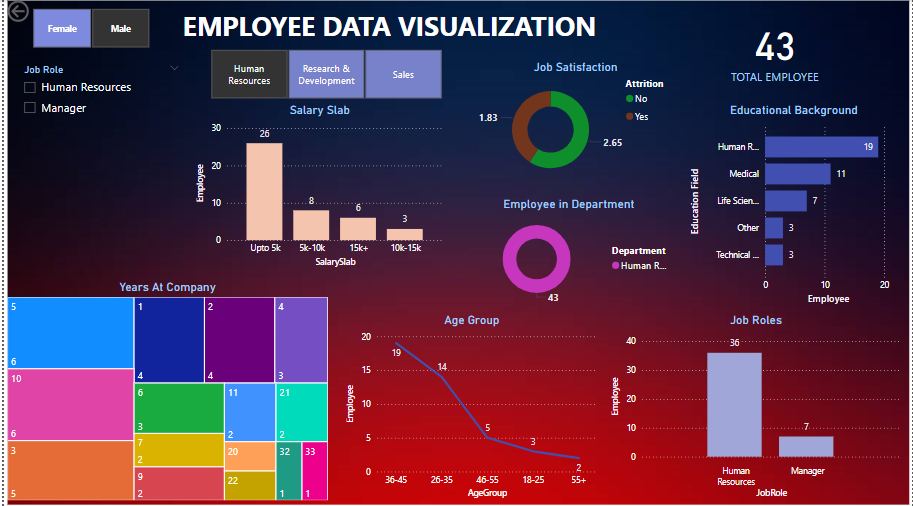

This screenshot's page, from the dashboard's own definition file:
{"tool":"powerbi","page":{"name":"Page 1","canvas":[1280,720],"ordinal":0},"visuals":[{"type":"image","box":[0,0,1280.2,720],"z":0},{"type":"lineChart","title":"Age Group","fields":{"Y":["CountNonNull(HR_Analytics.Age)"],"Category":["HR_Analytics.AgeGroup"]},"box":[478.1,445,362.9,266.4],"z":1000},{"type":"clusteredColumnChart","title":"Salary Slab","fields":{"Category":["HR_Analytics.SalarySlab"],"Y":["CountNonNull(HR_Analytics.SalarySlab)"]},"box":[266.4,149.8,357.1,236.2],"z":2000},{"type":"treemap","title":"Years At Company ","fields":{"Group":["HR_Analytics.YearsAtCompany"],"Values":["CountNonNull(HR_Analytics.YearsAtCompany)"]},"box":[0,398.9,460.8,315.4],"z":3000},{"type":"donutChart","title":"Employee in Department","fields":{"Y":["CountNonNull(HR_Analytics.Department)"],"Category":["HR_Analytics.Department"]},"box":[639.4,282.2,312.5,155.5],"z":4000},{"type":"clusteredBarChart","title":"Educational Background","fields":{"Category":["HR_Analytics.EducationField"],"Y":["CountNonNull(HR_Analytics.EducationField)"]},"box":[961.9,149.8,301,288],"z":5000},{"type":"donutChart","title":"Job Satisfaction","fields":{"Category":["HR_Analytics.Attrition"],"Y":["Avg(HR_Analytics.JobSatisfaction)"]},"box":[659.5,89.3,292.3,177.1],"z":6000},{"type":"columnChart","title":"Job Roles","fields":{"Category":["HR_Analytics.JobRole"],"Y":["CountNonNull(HR_Analytics.JobRole)"]},"box":[851,445,417.6,266.4],"z":7000},{"type":"slicer","fields":{"Values":["HR_Analytics.Gender"]},"box":[15.8,10.1,213.1,67.7],"z":8000},{"type":"slicer","fields":{"Values":["HR_Analytics.Department"]},"box":[266.4,54.7,374.4,82.1],"z":9000},{"type":"slicer","fields":{"Values":["HR_Analytics.JobRole"]},"box":[15.8,89.3,243.4,296.6],"z":10000},{"type":"textbox","box":[246.2,0,604.8,73.4],"z":11000},{"type":"actionButton","box":[0,0,100,40],"z":12000},{"type":"card","fields":{"Values":["CountNonNull(HR_Analytics.EmpID)"]},"box":[961.9,10.1,247.7,126.7],"z":13000}]}

Visuals, with their boxes in screenshot pixels (x1, y1, x2, y2), scaled from the page's 1280x720 canvas onto the 913x506 screenshot:
image: region(0, 0, 912, 505)
"Age Group" lineChart: region(341, 313, 600, 500)
"Salary Slab" clusteredColumnChart: region(190, 105, 445, 271)
"Years At Company " treemap: region(0, 280, 329, 502)
"Employee in Department" donutChart: region(456, 198, 679, 308)
"Educational Background" clusteredBarChart: region(686, 105, 901, 308)
"Job Satisfaction" donutChart: region(470, 63, 679, 187)
"Job Roles" columnChart: region(607, 313, 905, 500)
slicer - HR_Analytics.Gender: region(11, 7, 163, 55)
slicer - HR_Analytics.Department: region(190, 38, 457, 96)
slicer - HR_Analytics.JobRole: region(11, 63, 185, 271)
textbox: region(176, 0, 607, 52)
actionButton: region(0, 0, 71, 28)
card - CountNonNull(HR_Analytics.EmpID): region(686, 7, 863, 96)
